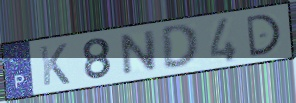4: (208, 15, 240, 64)
8: (81, 37, 114, 81)
D: (159, 22, 202, 71), (244, 12, 283, 59)
K: (38, 42, 72, 88)
N: (119, 28, 158, 78)
